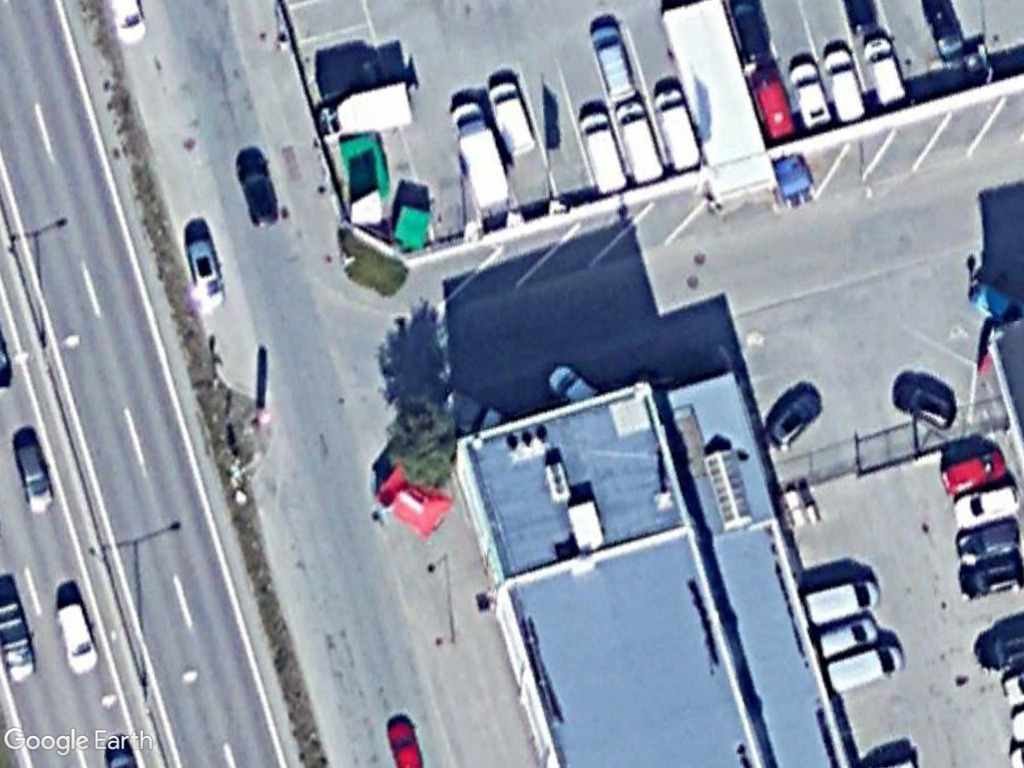car: (760, 385, 828, 454), (232, 150, 285, 233), (10, 438, 60, 520), (887, 378, 962, 432), (935, 447, 1009, 498), (787, 57, 836, 133), (950, 518, 1024, 565), (813, 613, 882, 660)
van: (448, 98, 514, 212), (651, 81, 705, 177), (613, 94, 668, 187), (576, 106, 632, 197), (801, 573, 883, 630), (823, 641, 907, 694), (588, 20, 639, 107), (484, 77, 537, 159), (860, 32, 912, 114), (53, 598, 103, 682), (821, 41, 870, 126), (947, 478, 1024, 530)
